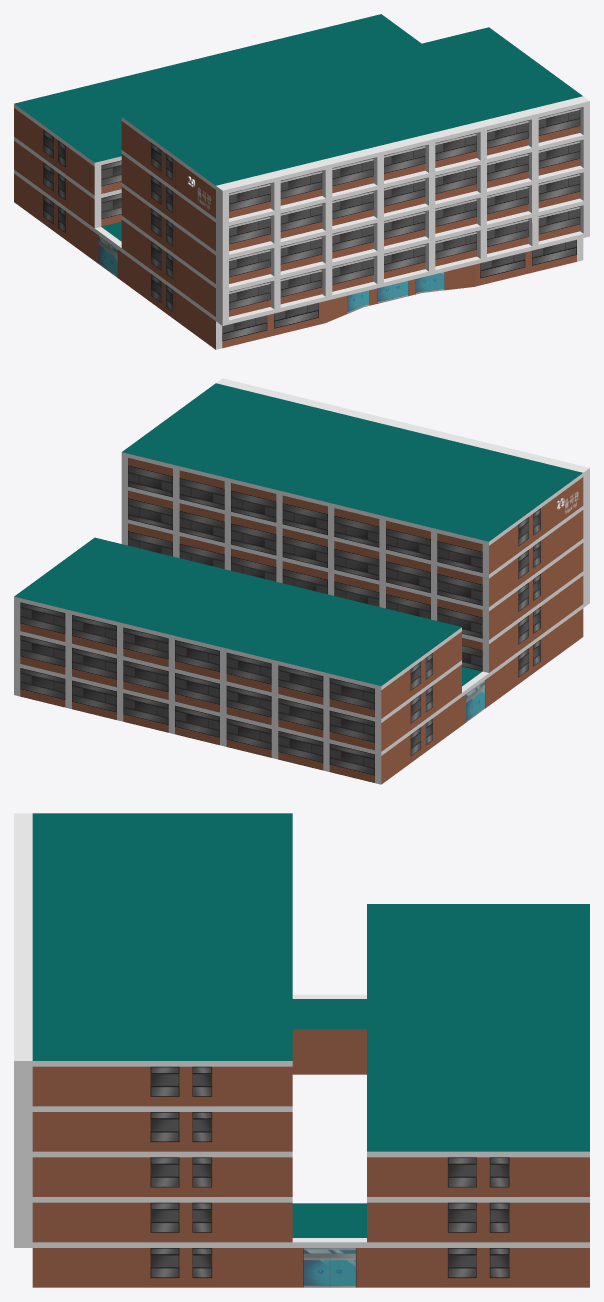
Rendered from building_yulgok.gltf.
The picture shows the model from 3 angles, top to bottom: view 1: azimuth 30°, elevation 25°; view 2: azimuth 150°, elevation 25°; view 3: azimuth 270°, elevation 25°; orthographic projection. The views are drawn at different scales.
Parts seen in each view (by area): view 1: building_yulgok; view 2: building_yulgok; view 3: building_yulgok.
Boxes of the visible parts, x1,y1,x2,y2 form: building_yulgok: (14,14,589,349); building_yulgok: (14,378,589,784); building_yulgok: (14,813,589,1287).
Size of the model in its own units: 3.55 by 1.51 by 3.48.
Materials: 1 (1 with a texture image).
